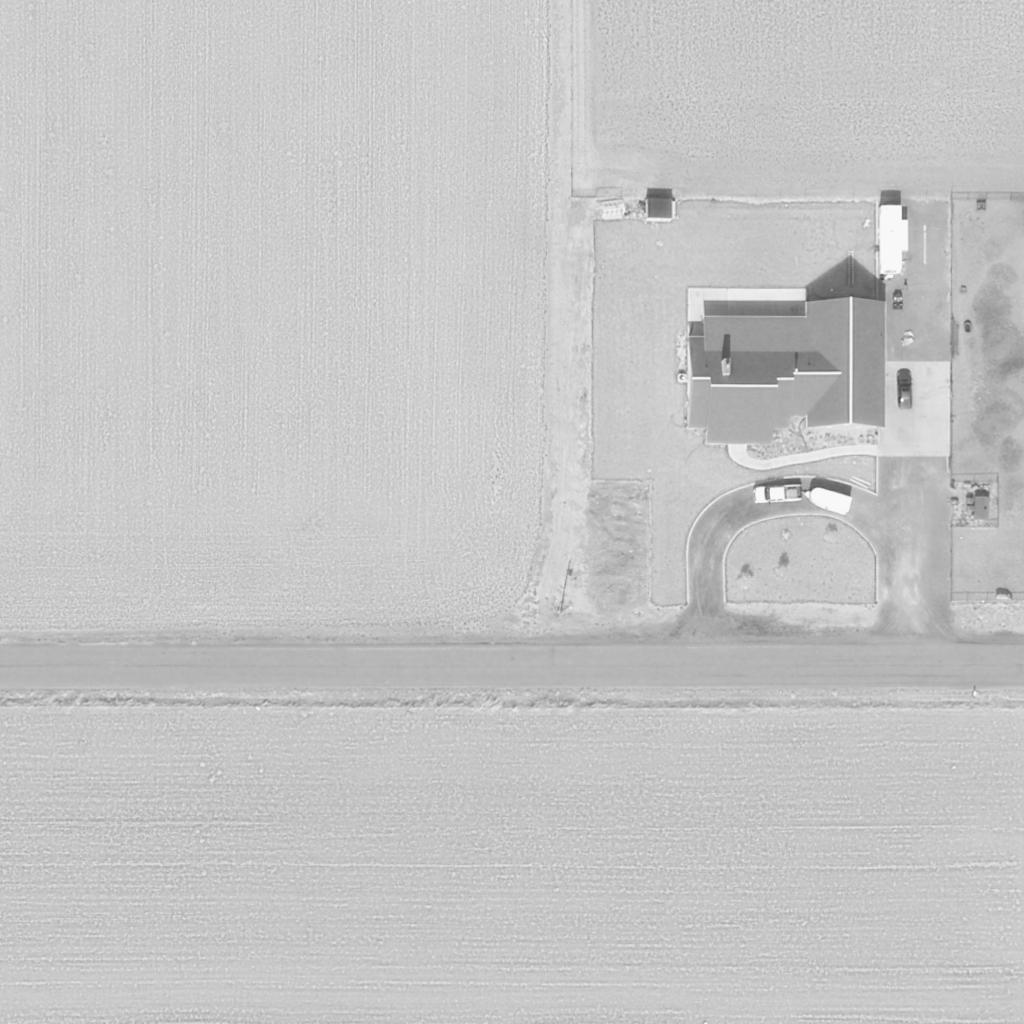vehicle: (876, 202, 912, 280), (806, 483, 854, 515), (754, 483, 804, 505), (892, 369, 914, 411)
